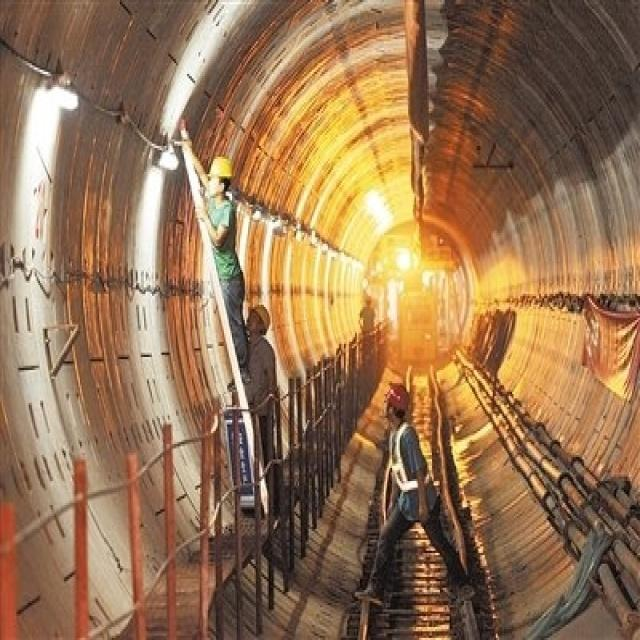helmet: (381, 508, 410, 567), (205, 203, 232, 264), (245, 404, 271, 448)
